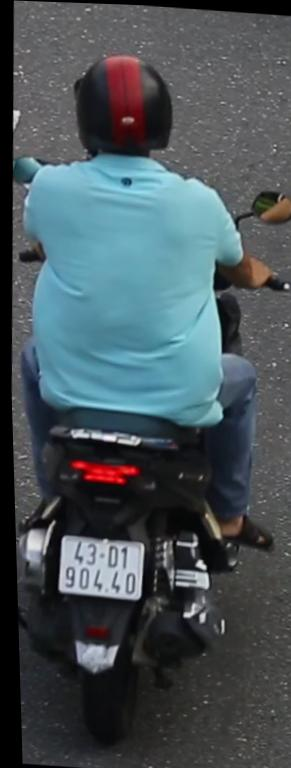LP: (50, 529, 146, 607)
helmet: (61, 47, 180, 186)
